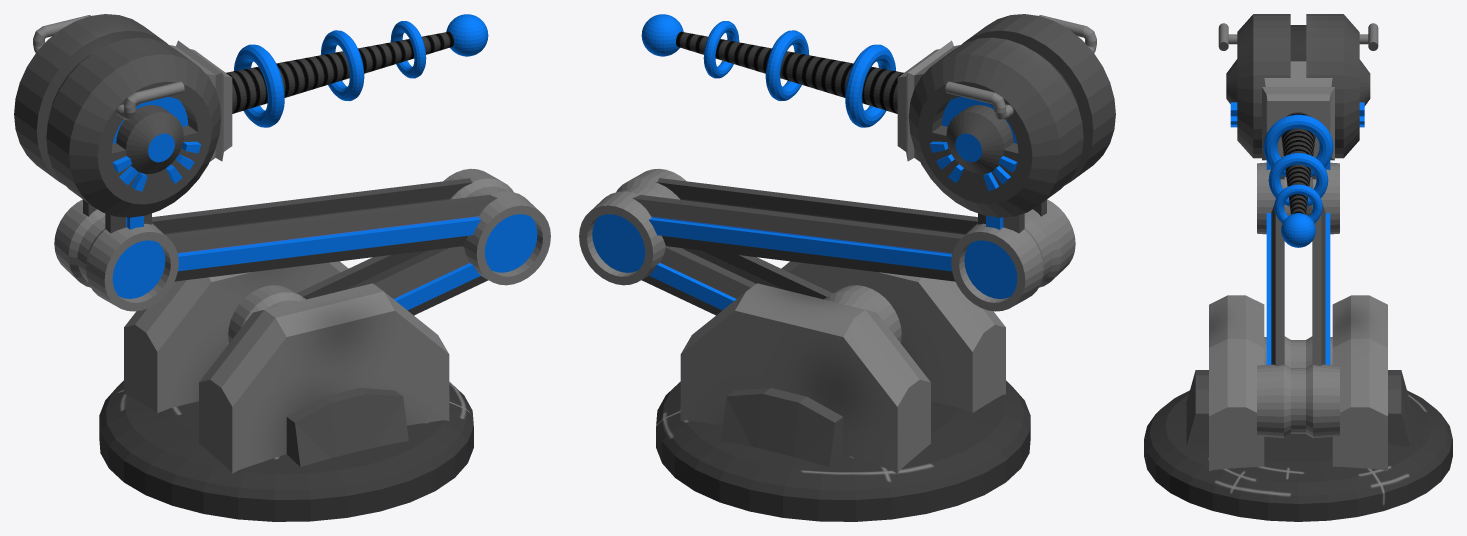
Rendered from tower_railgun_L3.obj.
3 views of the same model, side by side, from view 1: azimuth 30°, elevation 25°; view 2: azimuth 150°, elevation 25°; view 3: azimuth 270°, elevation 25° (orthographic). The views are drawn at different scales.
Parts seen in each view (by area): view 1: Cylinder.005_Cylinder.008; view 2: Cylinder.005_Cylinder.008; view 3: Cylinder.005_Cylinder.008.
Boxes of the visible parts, x1=… form: Cylinder.005_Cylinder.008: x1=14, y1=14, x2=550, y2=521; Cylinder.005_Cylinder.008: x1=579, y1=14, x2=1115, y2=521; Cylinder.005_Cylinder.008: x1=1144, y1=14, x2=1452, y2=521.
Size of the model in its own units: 7.43 by 6.54 by 4.96.
Materials: 1 (1 with a texture image).
